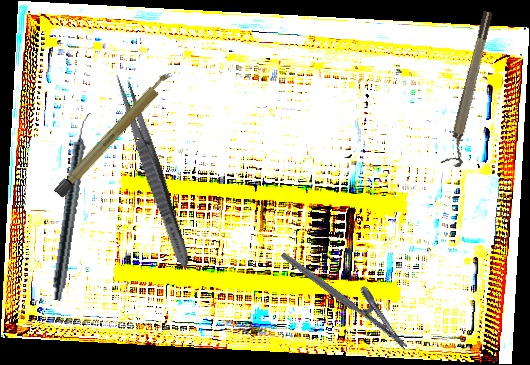Dressing Forceps: (110, 70, 196, 272)
Fixation Ring: (439, 9, 503, 169)
Handpiece: (50, 111, 94, 302)
Needle Holder: (279, 234, 422, 351)
Scalpel Handle: (52, 67, 178, 200)
